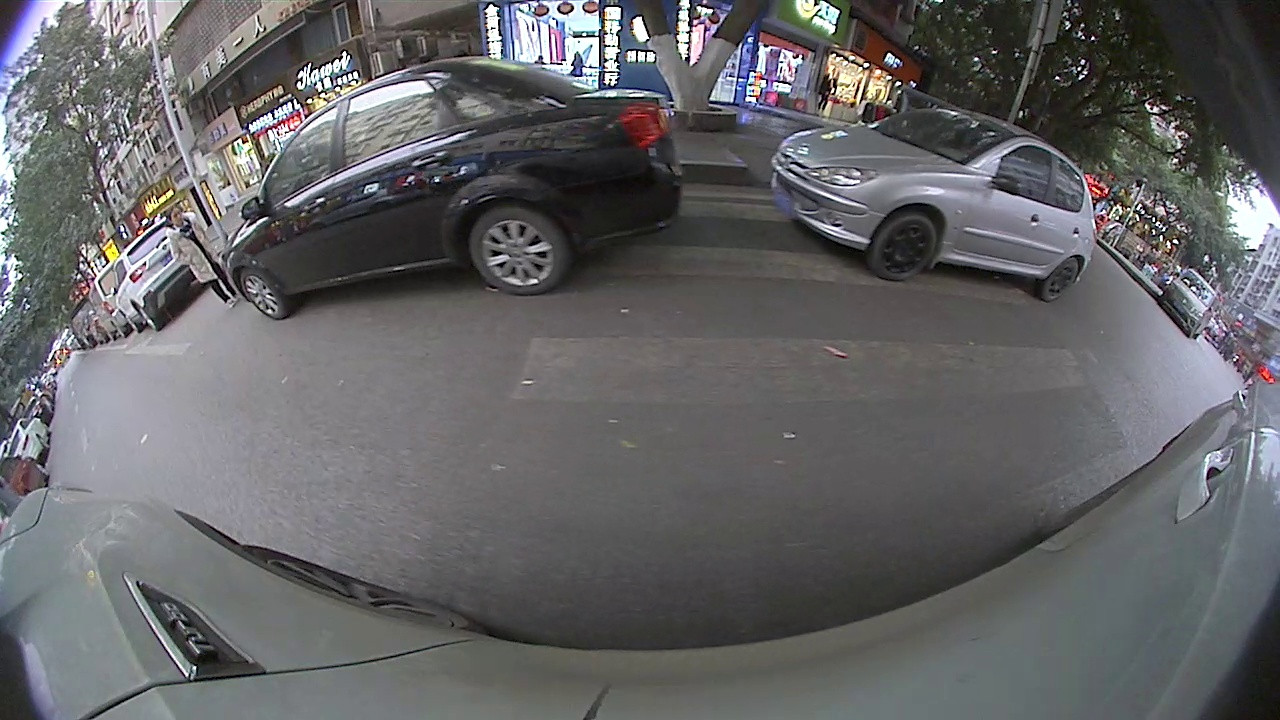car: (220, 58, 684, 323), (771, 106, 1097, 302), (113, 221, 203, 332), (1158, 269, 1221, 337), (1, 456, 51, 517), (1, 413, 51, 464)
front: (869, 212, 940, 282), (238, 265, 288, 319)
person: (169, 206, 199, 317)
rear: (470, 208, 570, 292), (1041, 254, 1083, 303)
